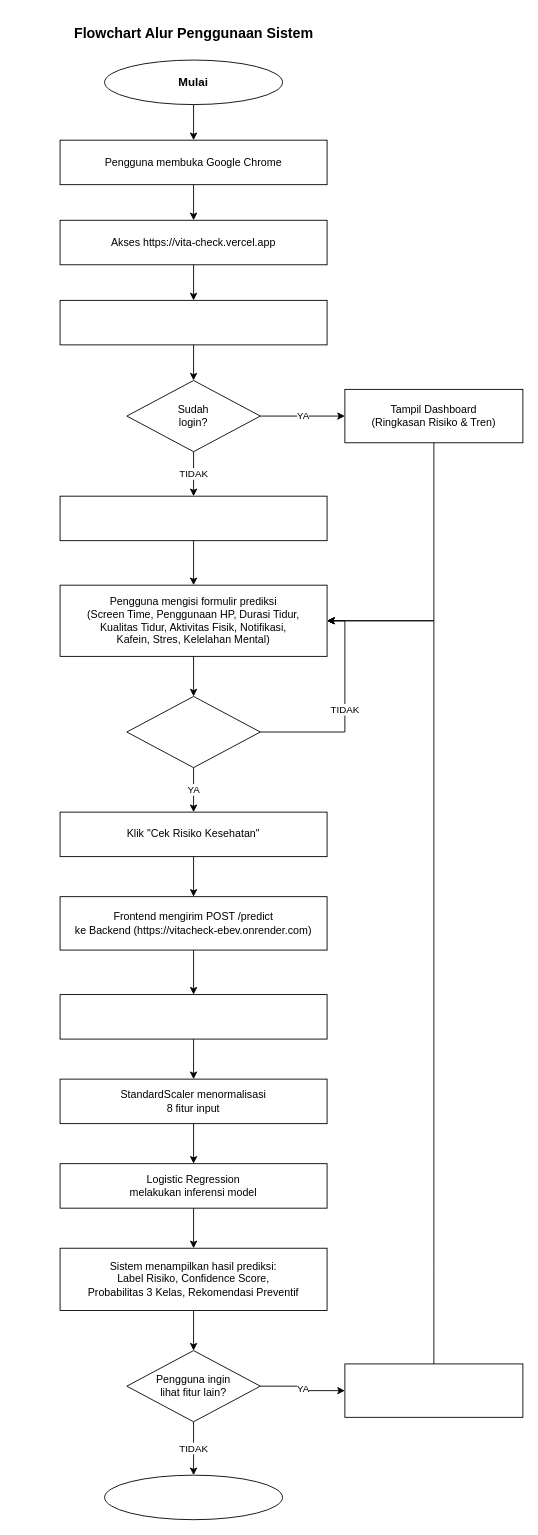
This 538x1535 diagram has some shape labels left out. Each missing label, with the box of its shape:
Dashboard → Tren Risiko Riwayat → Histori Prediksi Profil → Manajemen Akun: (344, 1363, 523, 1417)
FastAPI memvalidasi input dengan Pydantic Schema: (59, 994, 327, 1039)
Form sudah lengkap?: (126, 696, 260, 768)
Selesai: (104, 1474, 283, 1520)
Sistem memeriksa token JWT di localStorage: (59, 299, 327, 345)
Sistem menampilkan Halaman Utama (Landing Page): (59, 495, 327, 541)
